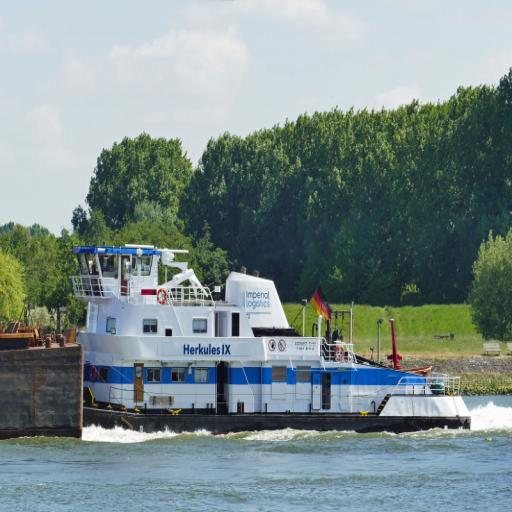tugboat: (15, 239, 476, 442)
